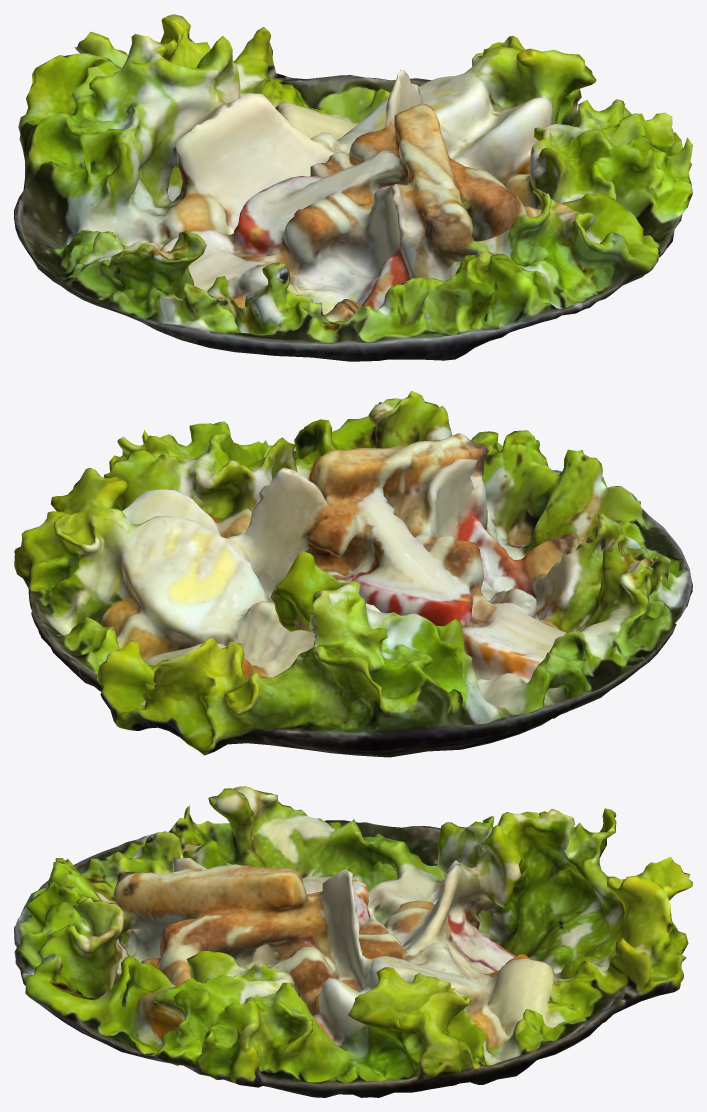
File: salade-cesar.ar.glb
The picture shows the model from 3 angles, top to bottom: view 1: azimuth 30°, elevation 25°; view 2: azimuth 150°, elevation 25°; view 3: azimuth 270°, elevation 25°; orthographic projection. The views are drawn at different scales.
Visible parts, largest first — view 1: /ObjectCapture/Geometry/Mesh; view 2: /ObjectCapture/Geometry/Mesh; view 3: /ObjectCapture/Geometry/Mesh.
Boxes of the visible parts, <box> form: /ObjectCapture/Geometry/Mesh: <box>14,14,692,361</box>; /ObjectCapture/Geometry/Mesh: <box>14,390,692,757</box>; /ObjectCapture/Geometry/Mesh: <box>14,786,692,1097</box>.
Bounding box in the file's own units: 0.2223 × 0.068 × 0.2378.
Materials: 1 (1 with a texture image).
